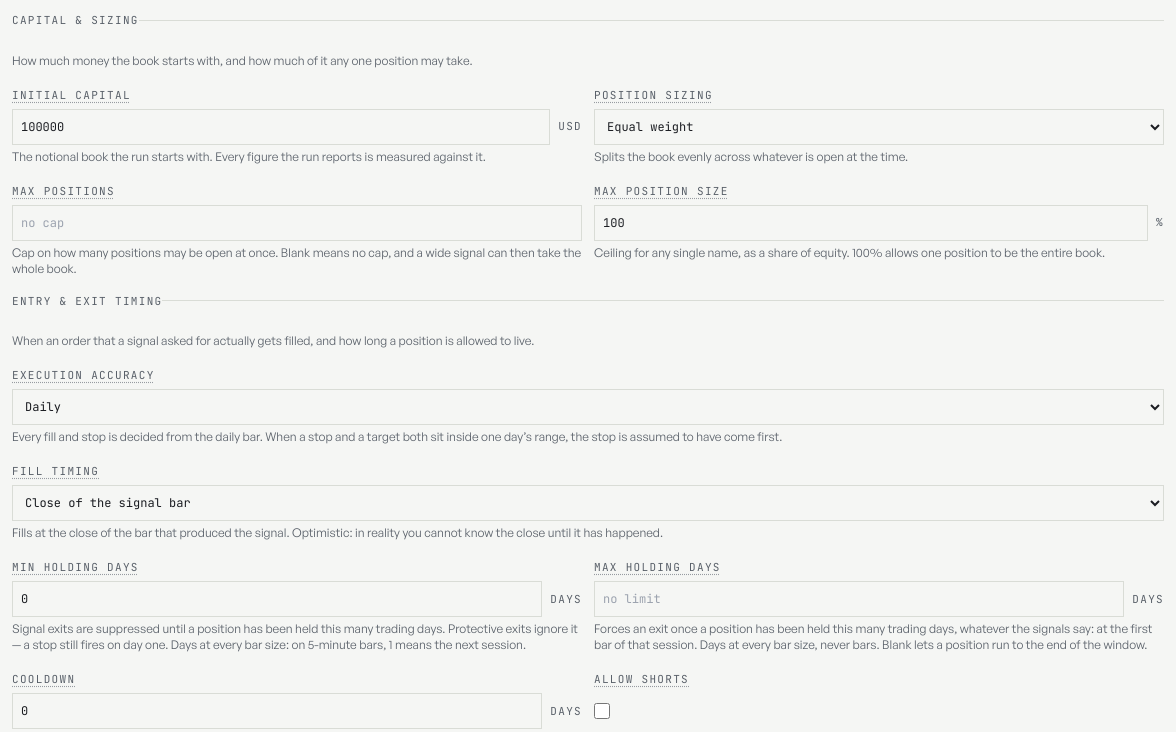
Scenario: ExecutionForm › relabels the sizing value for the mode that reads it as cash
Select "Fixed cash per trade" in the dropdown labelled "Position sizing" at (879, 126), box [594,108,1164,144]
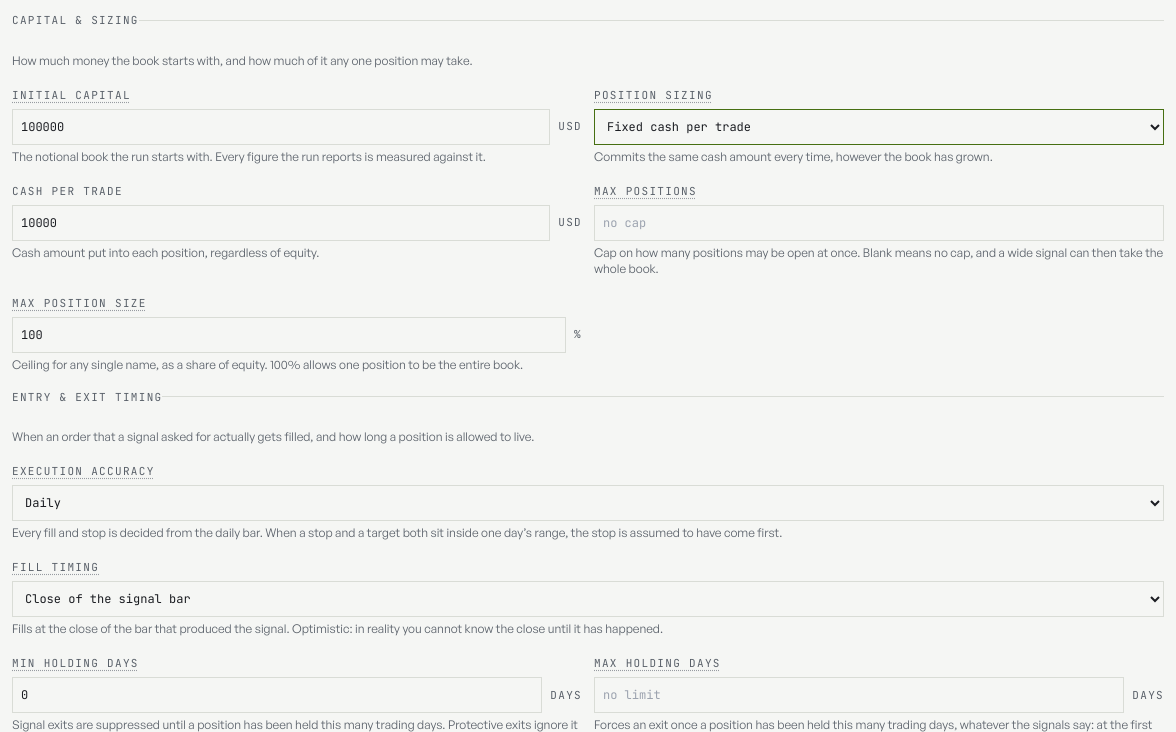
Expected: the number field labelled "Cash per trade" is shown, [12,204,550,240]
